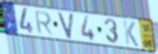3: (103, 18, 119, 45)
4: (80, 14, 97, 43), (19, 7, 36, 35)
K: (122, 20, 140, 48)
R: (34, 11, 55, 37)
V: (57, 11, 75, 41)
